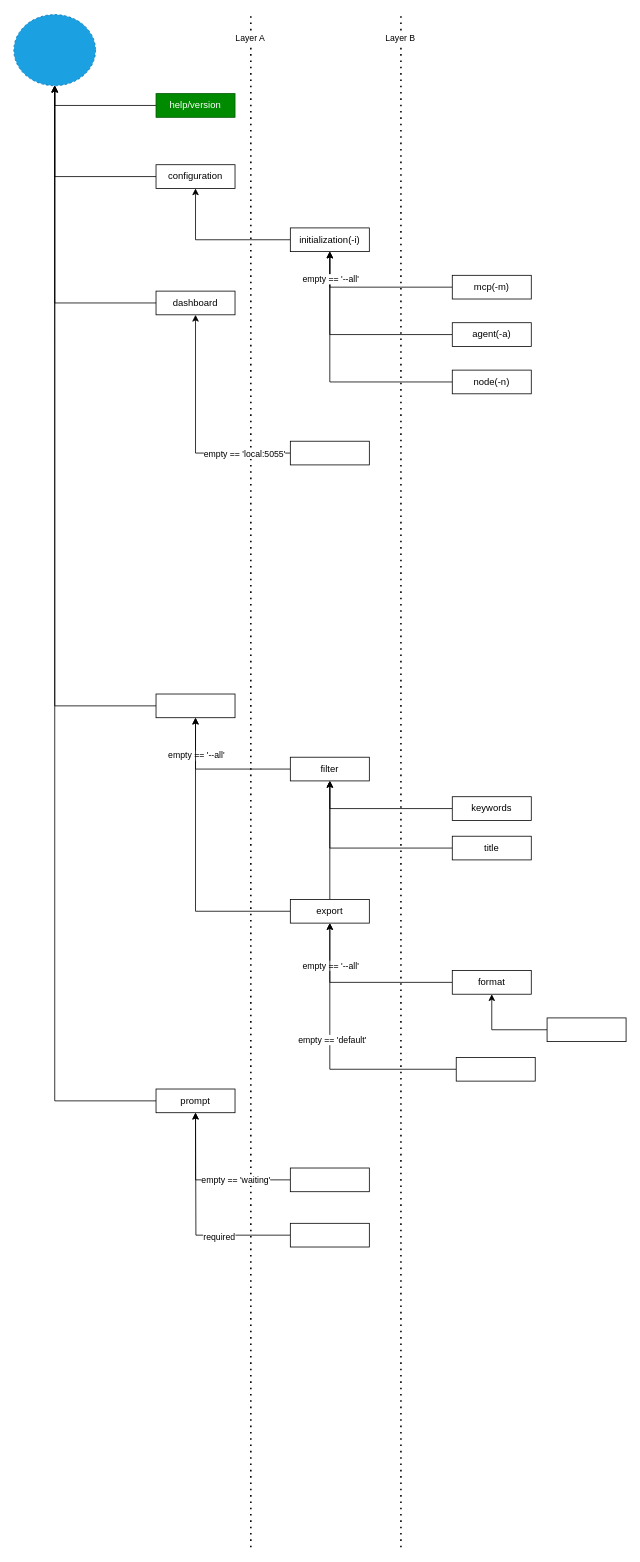
Image size: 640x1562. Some labels were removed from this diagram. The shapes that lost their labels are listed below. From the top down, each one's box as (x1, y1, x2, y2) in pixels, then its label:
(13, 14, 96, 86): Thalamus CLI
(290, 440, 369, 465): url
(155, 693, 235, 718): memory
(546, 1017, 626, 1042): json
(455, 1057, 535, 1081): path
(290, 1167, 369, 1192): background(-b)
(290, 1223, 369, 1247): message(-m)
